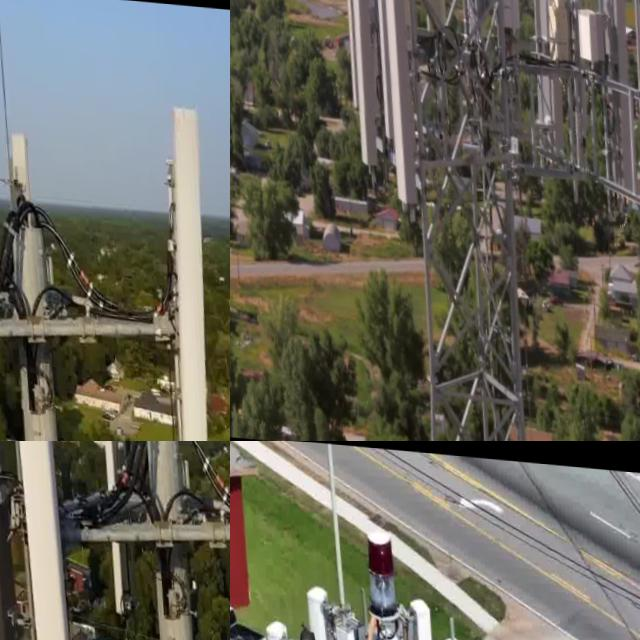GSM Antenna: (139, 86, 230, 441), (363, 0, 424, 217), (4, 441, 62, 640), (584, 0, 640, 206), (515, 0, 575, 177), (332, 0, 389, 171), (82, 441, 137, 615), (3, 127, 37, 240), (620, 0, 640, 173), (412, 0, 452, 63), (297, 569, 332, 640), (488, 0, 525, 51), (402, 589, 433, 640), (255, 610, 295, 640)
